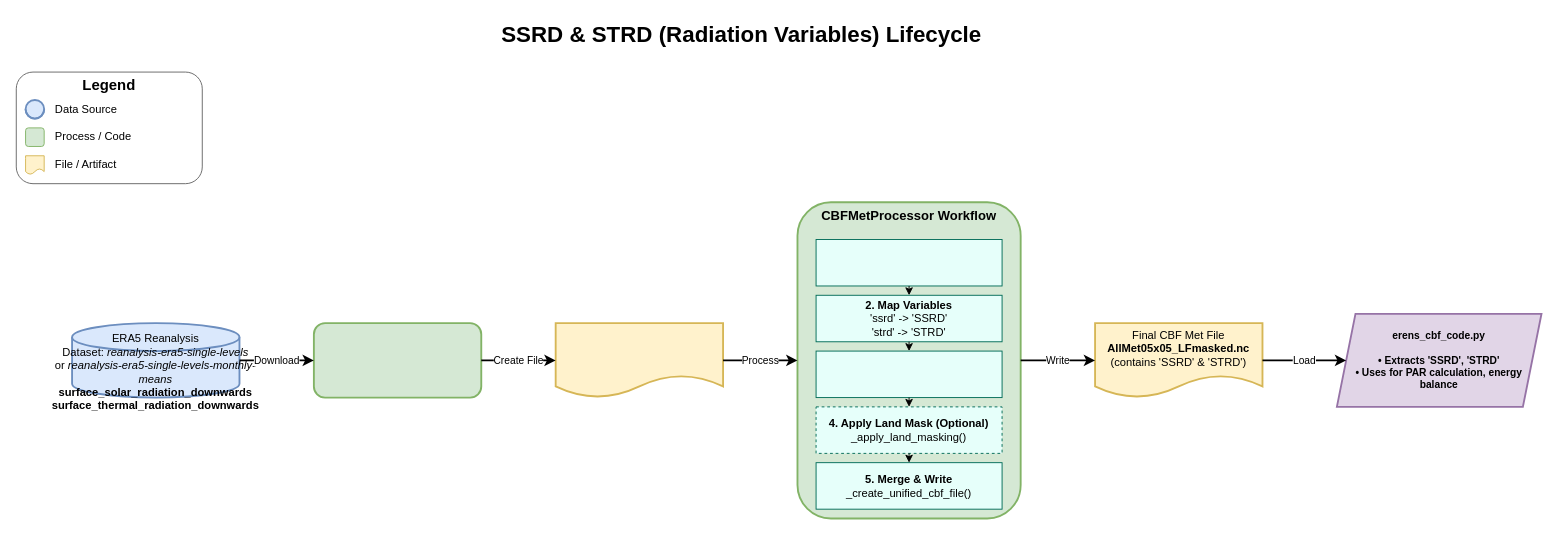
This 1559x535 diagram has some shape labels left out. Each missing label, with the centre of its shape:
1. Load Unified Dataset _load_unified_era5_dataset(): pixel 908 262
3. Apply Unit Conversion Units: 'J m-2' -> 'W m-2' (Divide by seconds in month): pixel 908 374
Downloaded NetCDF File(s) *.nc (contains 'ssrd' & 'strd' variables): pixel 639 360
ecmwf_downloader.py: pixel 397 360
